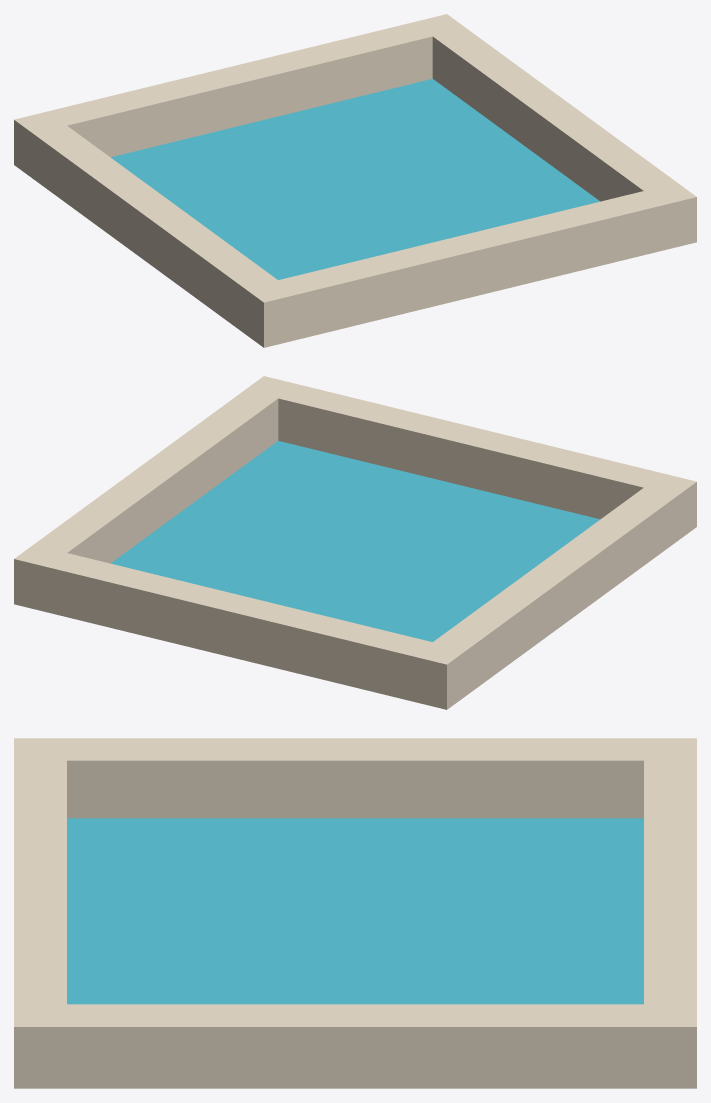
Rendered from pool.gltf.
3 views of the same model, one above another, from view 1: azimuth 30°, elevation 25°; view 2: azimuth 150°, elevation 25°; view 3: azimuth 270°, elevation 25° (orthographic). The views are drawn at different scales.
Parts seen in each view (by area): view 1: pool; view 2: pool; view 3: pool.
Part boxes in pixels (x1,y1,x2,y2): pool: (14, 14, 696, 347); pool: (14, 376, 696, 709); pool: (14, 738, 696, 1088).
Size of the model in its own units: 4.5 by 0.45 by 4.5.
